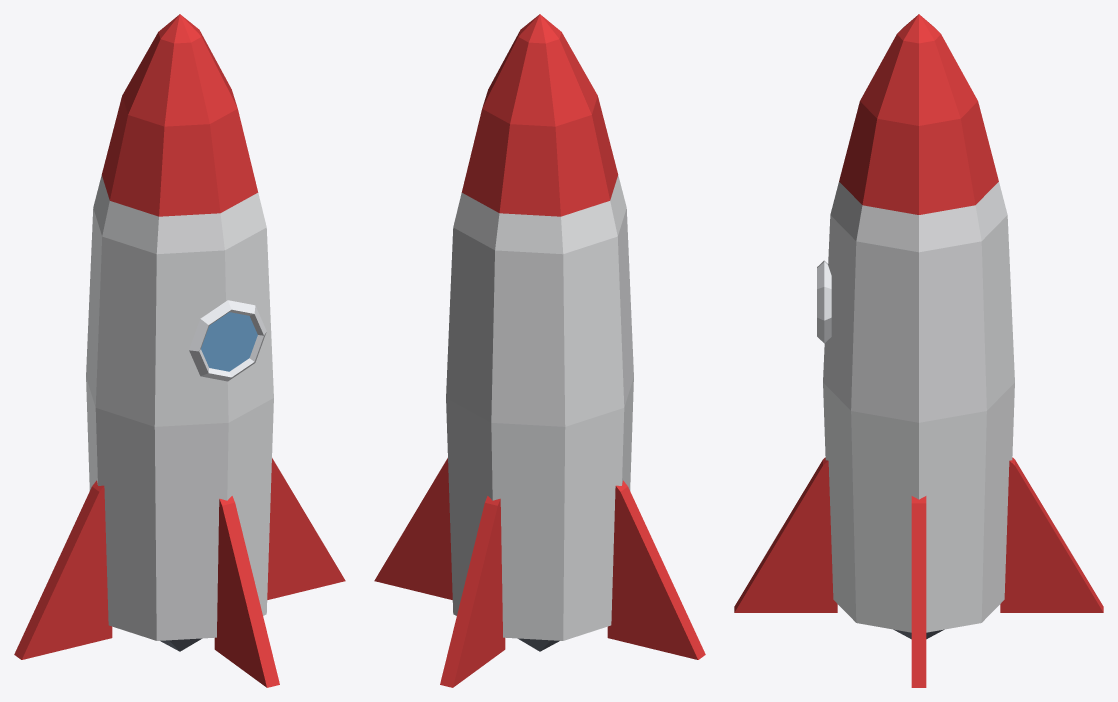
The model's file is Rocket.fbx.
The picture shows the model from 3 angles, left to right: view 1: azimuth 30°, elevation 25°; view 2: azimuth 150°, elevation 25°; view 3: azimuth 270°, elevation 25°; orthographic projection.
Parts seen in each view (by area): view 1: Rocket; view 2: Rocket; view 3: Rocket.
Boxes of the visible parts, x1,y1,x2,y2 form: Rocket: (14,14,345,687); Rocket: (374,14,705,687); Rocket: (734,14,1103,687).
Size of the model in its own units: 5 by 9.4 by 5.
1 material, 1 textured.
